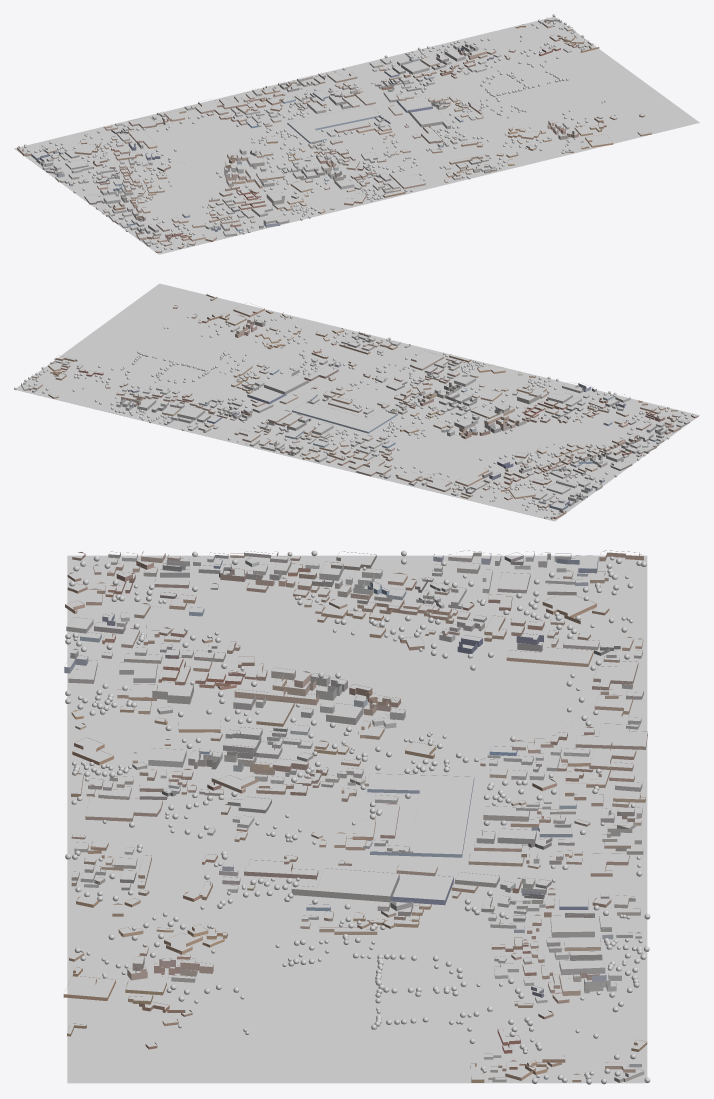
The picture shows the model from 3 angles, top to bottom: view 1: azimuth 30°, elevation 25°; view 2: azimuth 150°, elevation 25°; view 3: azimuth 270°, elevation 25°; orthographic projection. The views are drawn at different scales.
Visible parts, largest first — view 1: Ground_Base; view 2: Ground_Base; view 3: Ground_Base.
Part boxes in pixels (x1,y1,x2,y2): Ground_Base: (14,17,699,254); Ground_Base: (16,283,699,521); Ground_Base: (67,555,647,1083).
Bounding box in the file's own units: 2680 × 24.94 × 1254.
